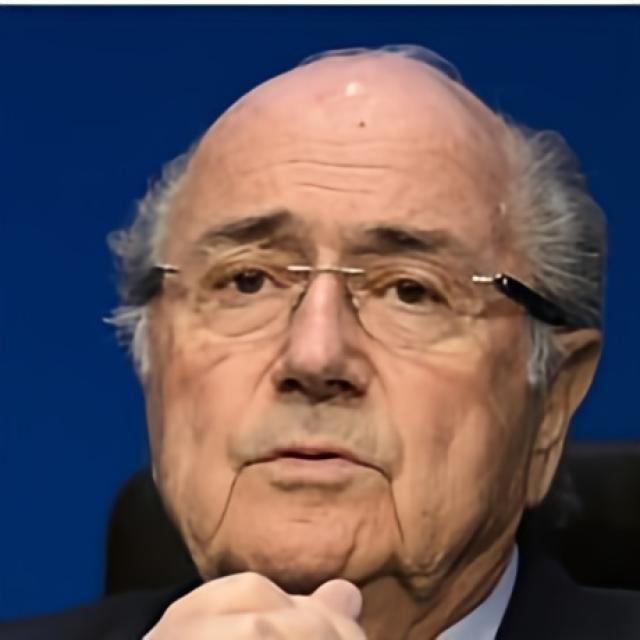sad: (146, 102, 528, 580)
